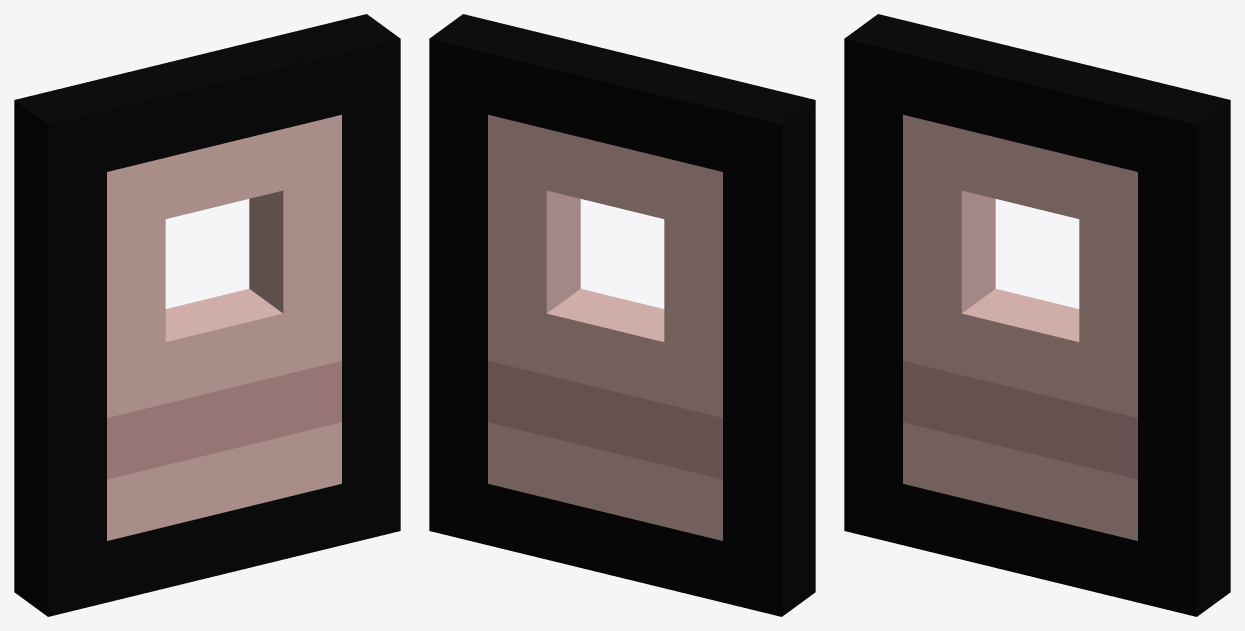
File: Cherry Door.glb
The picture shows the model from 3 angles, left to right: view 1: azimuth 30°, elevation 25°; view 2: azimuth 150°, elevation 25°; view 3: azimuth 330°, elevation 25°; orthographic projection.
Parts seen in each view (by area): view 1: generated(Clone); view 2: generated(Clone); view 3: generated(Clone).
Boxes of the visible parts, bbox=[...] form: generated(Clone): bbox=[14, 14, 400, 616]; generated(Clone): bbox=[429, 14, 815, 616]; generated(Clone): bbox=[844, 14, 1230, 616].
Bounding box in the file's own units: 6 × 8 × 1.
Materials: 1 (1 with a texture image).
